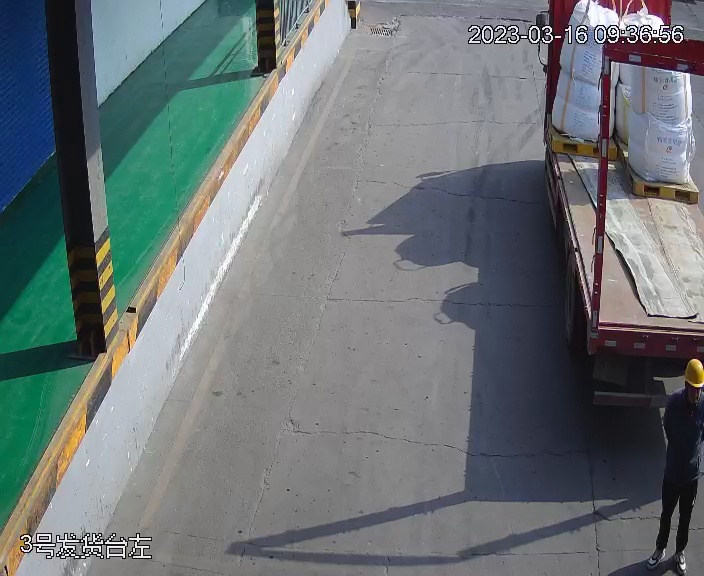head: (663, 358, 704, 421)
helmet: (683, 357, 704, 388)
people: (651, 355, 704, 574)
truck: (535, 1, 704, 413)
